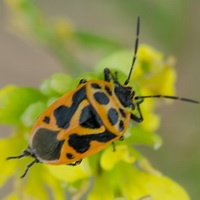insect: (0, 17, 199, 199)
